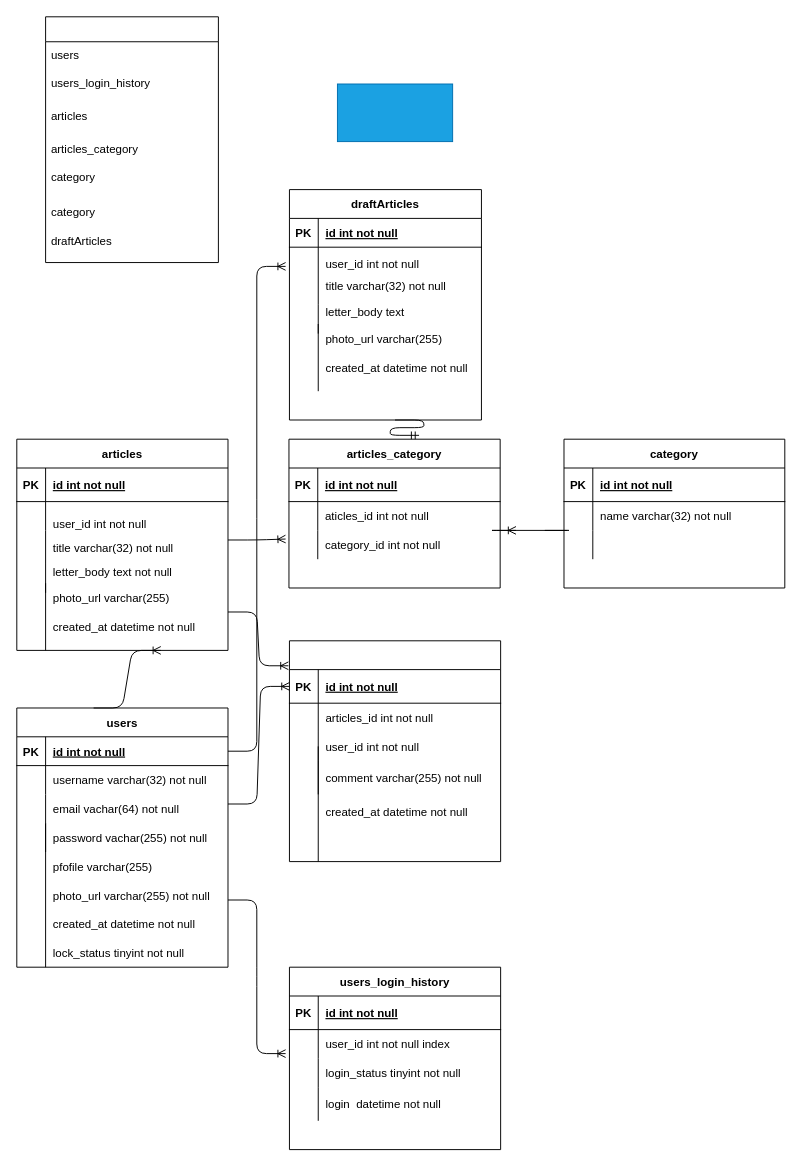
Image size: 802x1166. Some labels were removed from this diagram. The shapes that lost their labels are listed below. From the top down, each one's box as (x1, y1, x2, y2) in pixels, then its label:
(336, 83, 453, 142): DB myportfolio データモデル
(45, 16, 218, 263): Table_List
(288, 640, 501, 862): articles_comments
